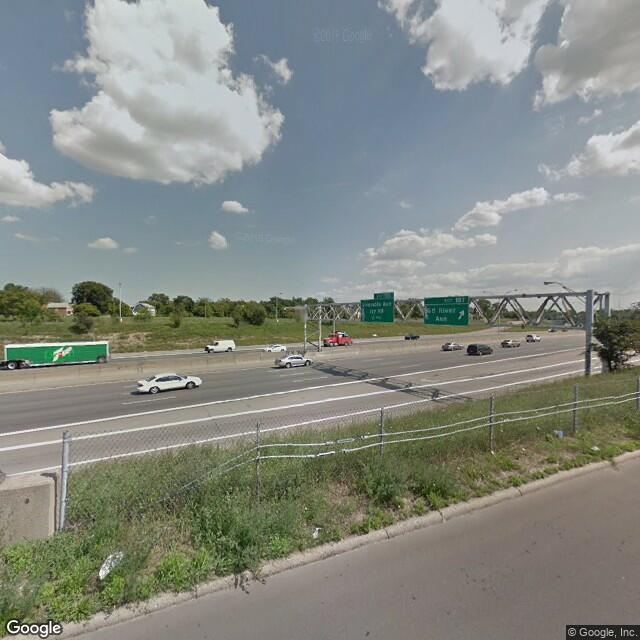litter: (99, 549, 126, 581), (311, 527, 319, 539), (554, 428, 563, 438), (589, 445, 599, 451)
